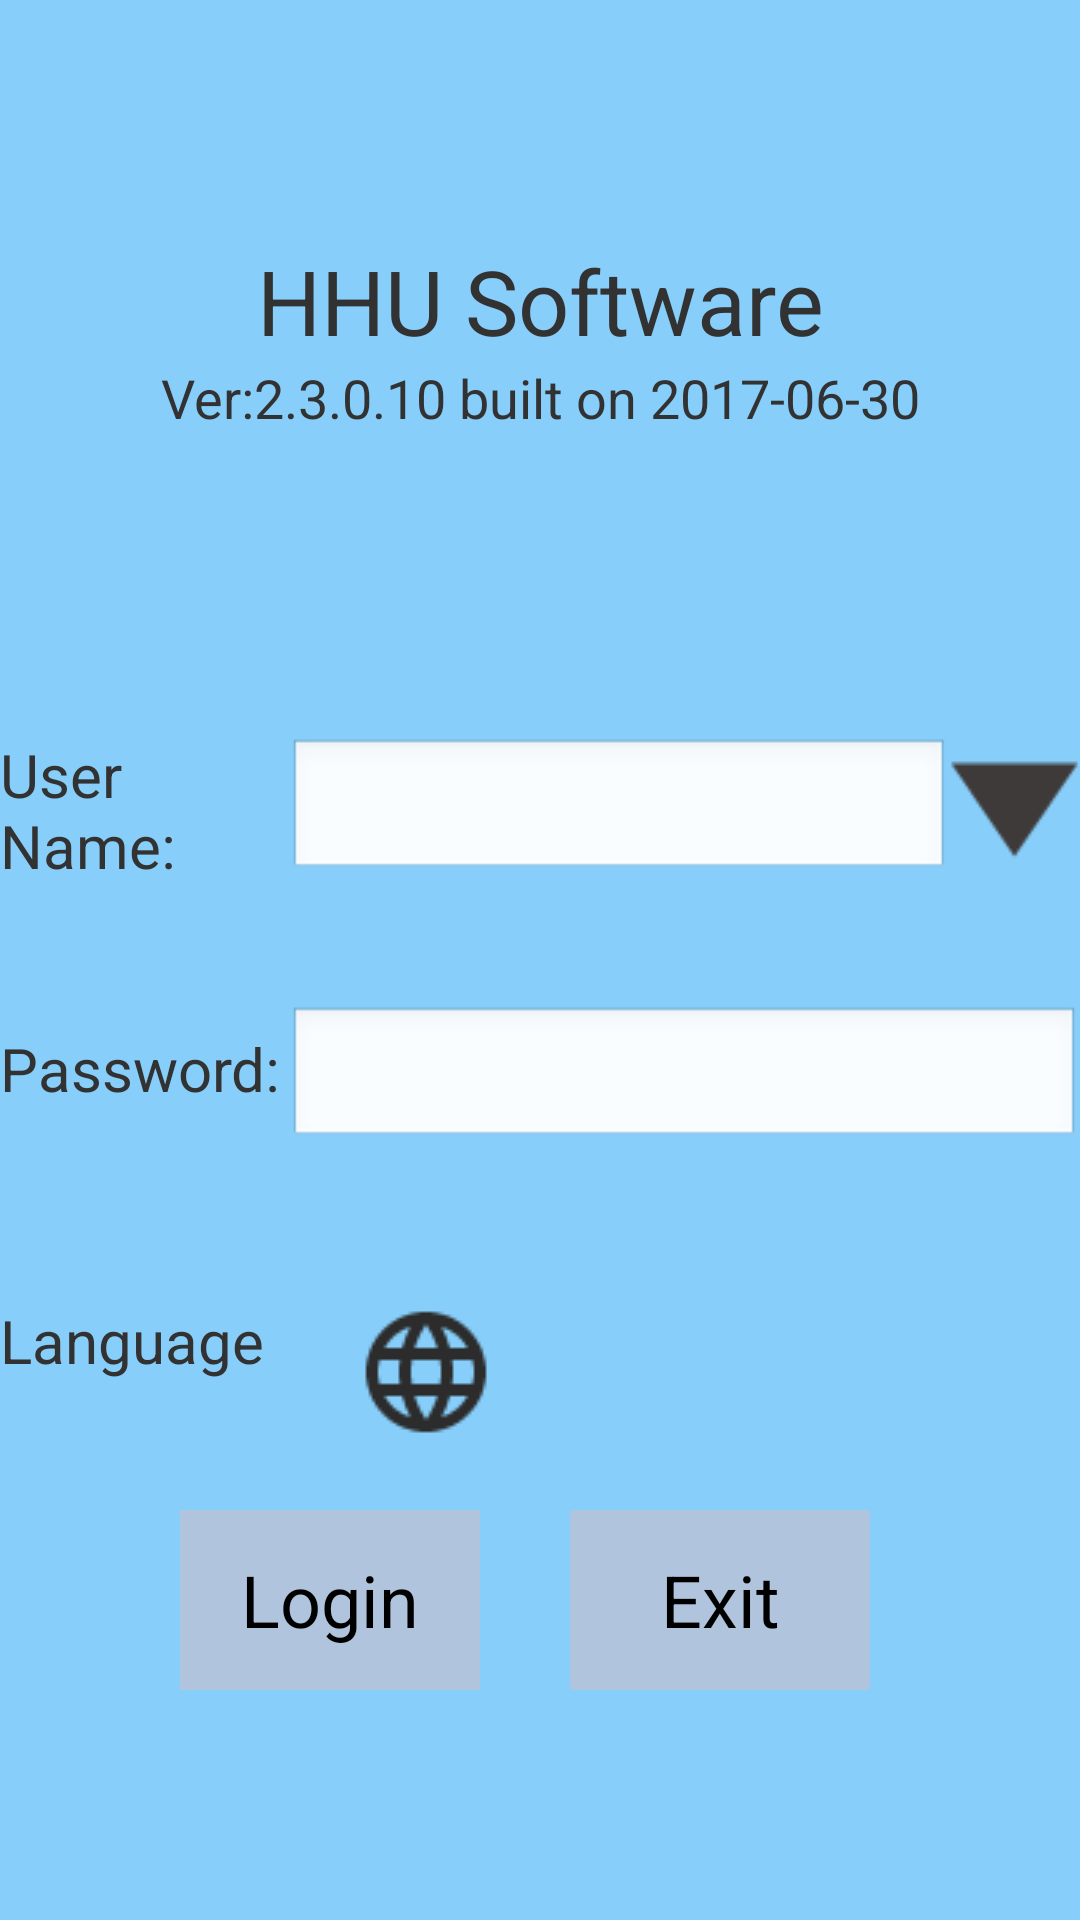

Icon click points for this 1080 x 1920 phone screenshot, format (x=x, y=y):
more acc: (x=1014, y=808)
